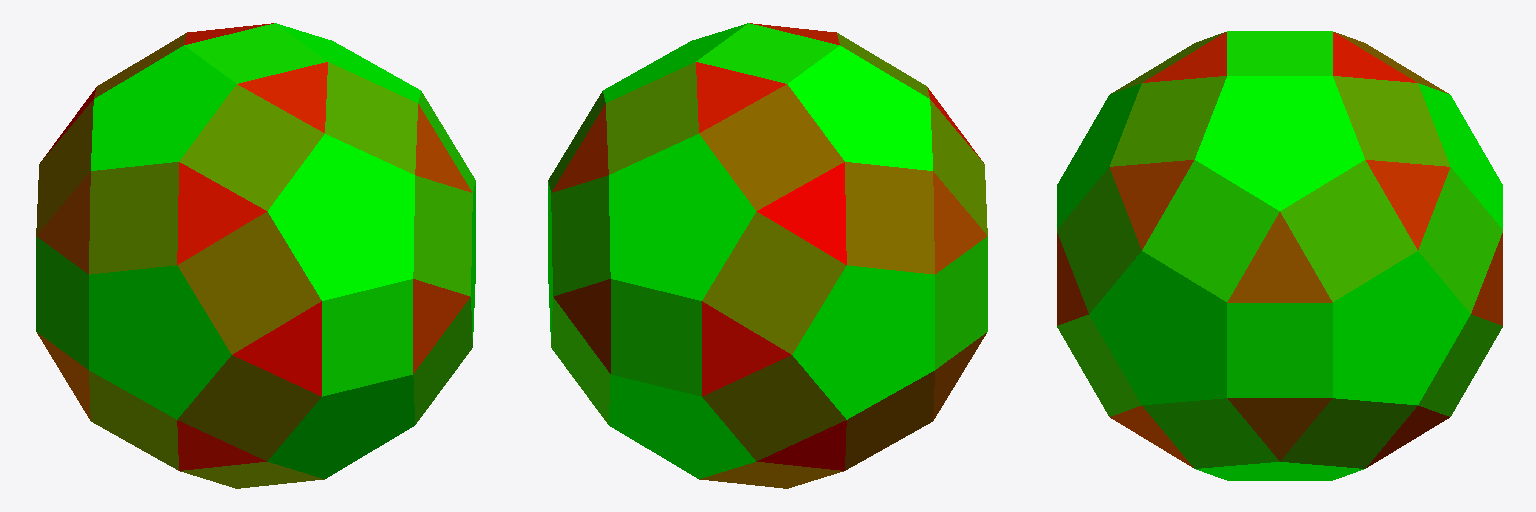
The picture shows the model from 3 angles: view 1: azimuth 30°, elevation 25°; view 2: azimuth 150°, elevation 25°; view 3: azimuth 270°, elevation 25°; orthographic projection.
Size of the model in its own units: 4.24 by 4.24 by 4.24.
1 materials, 1 textured.